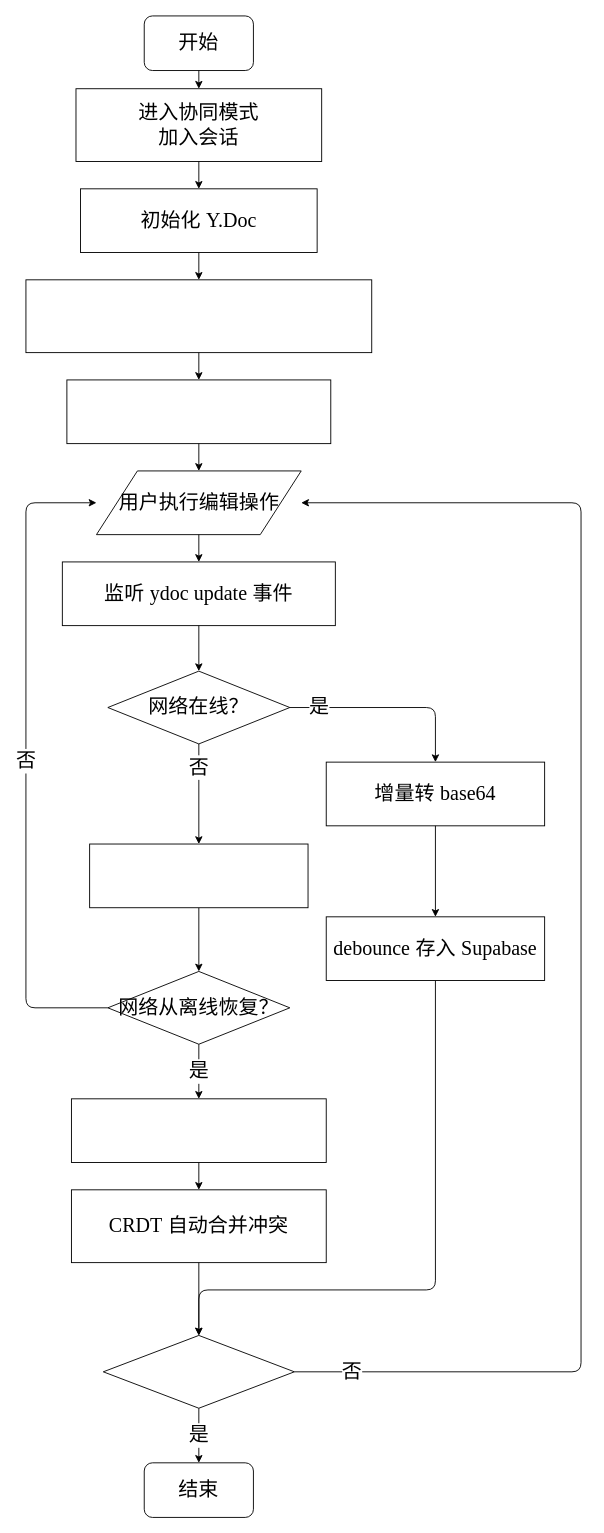
The diagram is 604 pixels wide and 1533 high, and some of its shapes have lost their labels. Here are the shapes that lost their labels. From the top down, the centre of each, then its label:
(x=198, y=316): 创建 Hocuspocus Provider WebSocket 连接服务器
(x=198, y=411): 同步 Y.Doc 到服务器
(x=198, y=875): 保存到本地 SQLite
(x=198, y=1130): 从服务器获取最新状态
(x=198, y=1371): 退出协同模式？
